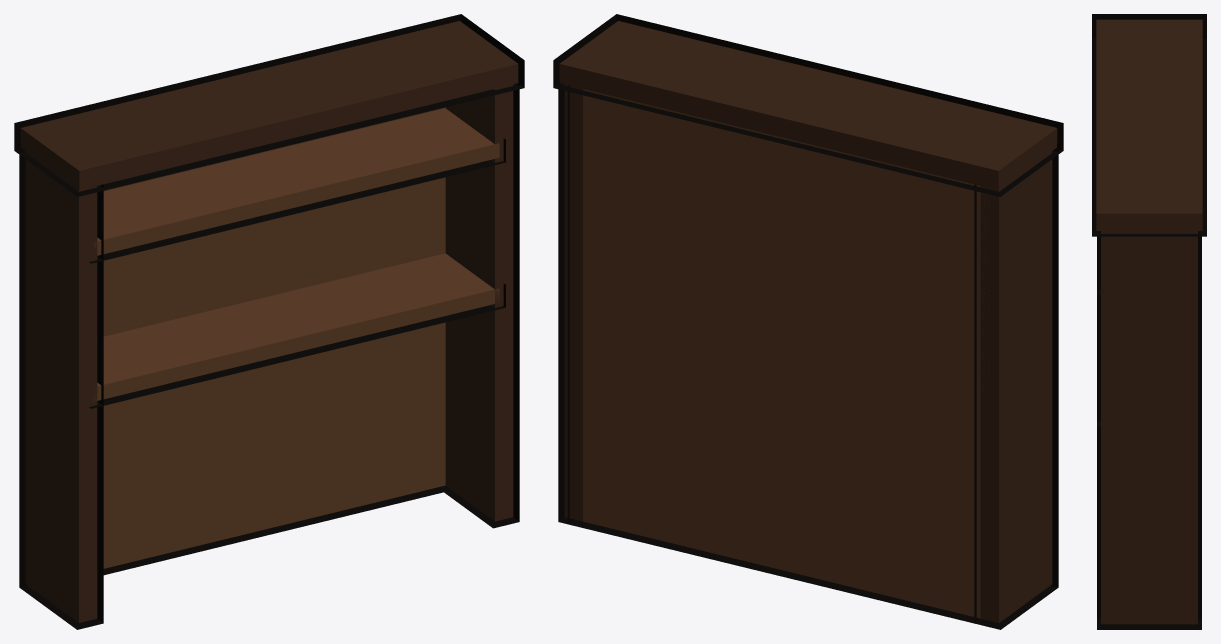
File: shelf.glb
3 renders of one model, left to right at view 1: azimuth 30°, elevation 25°; view 2: azimuth 150°, elevation 25°; view 3: azimuth 270°, elevation 25°, orthographic. The views are drawn at different scales.
Parts seen in each view (by area): view 1: Prop_hearth_shelf; view 2: Prop_hearth_shelf; view 3: Prop_hearth_shelf.
Part boxes in pixels (x1,y1,x2,y2): Prop_hearth_shelf: (14,14,524,629); Prop_hearth_shelf: (553,14,1063,629); Prop_hearth_shelf: (1092,14,1206,629).
Size of the model in its own units: 1.93 by 1.91 by 0.4746.
